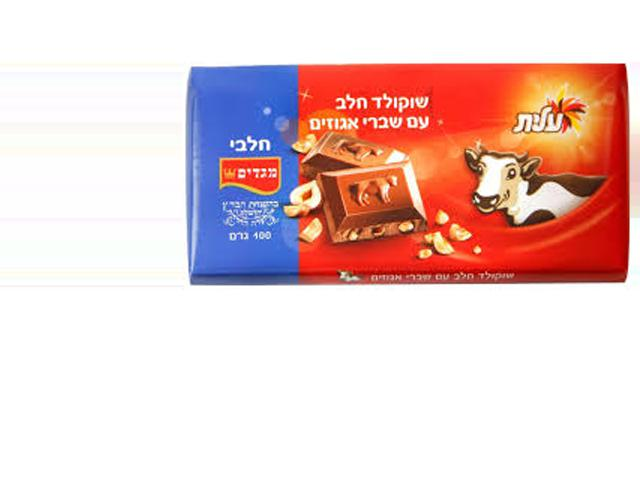chocolate: (187, 64, 631, 282)
